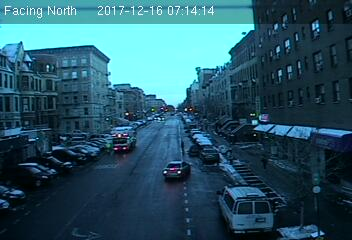car: (163, 160, 189, 179), (201, 148, 220, 161)
police: (216, 183, 273, 234)
truck: (110, 127, 136, 150)
